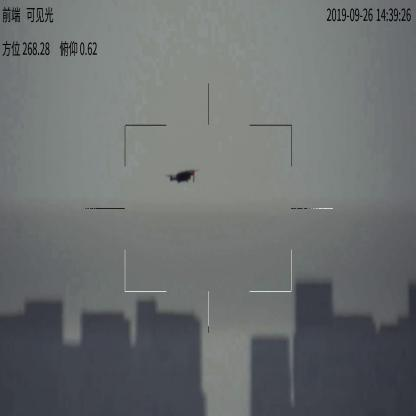uav: (160, 167, 201, 184)
